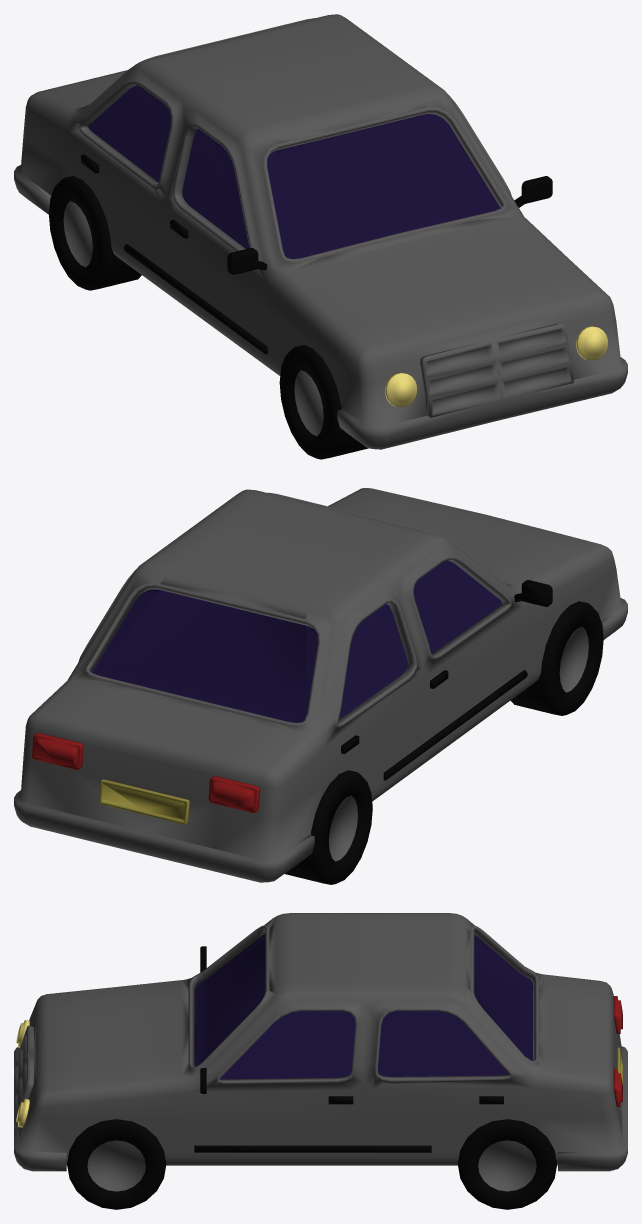
File: Car1.fbx
3 views of the same model, one above another, from view 1: azimuth 30°, elevation 25°; view 2: azimuth 150°, elevation 25°; view 3: azimuth 270°, elevation 25° (orthographic). The views are drawn at different scales.
Visible parts, largest first — view 1: Car; view 2: Car; view 3: Car.
Part boxes in pixels (x1,y1,x2,y2): Car: (14,14,627,459); Car: (14,488,627,884); Car: (14,913,627,1209).
Bounding box in the file's own units: 128 × 91.42 × 249.
